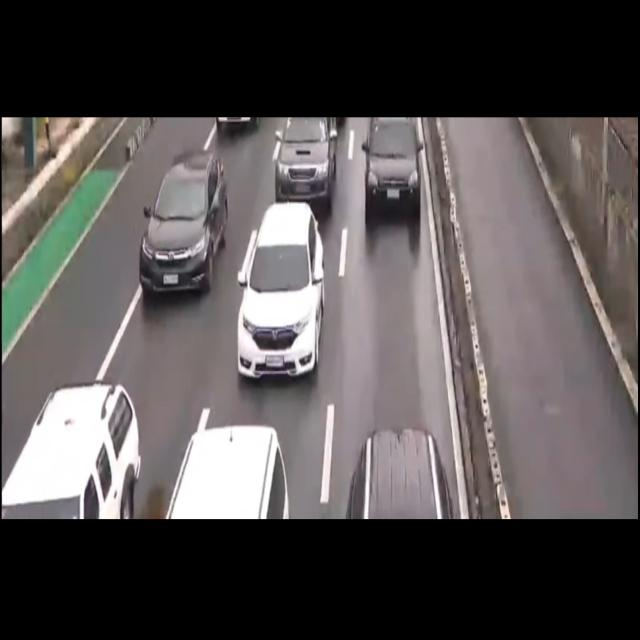SUV: (3, 375, 144, 517), (164, 418, 298, 521), (324, 419, 454, 522), (266, 118, 336, 209), (365, 117, 419, 221)
Sedan: (236, 202, 326, 388), (139, 150, 226, 294)
